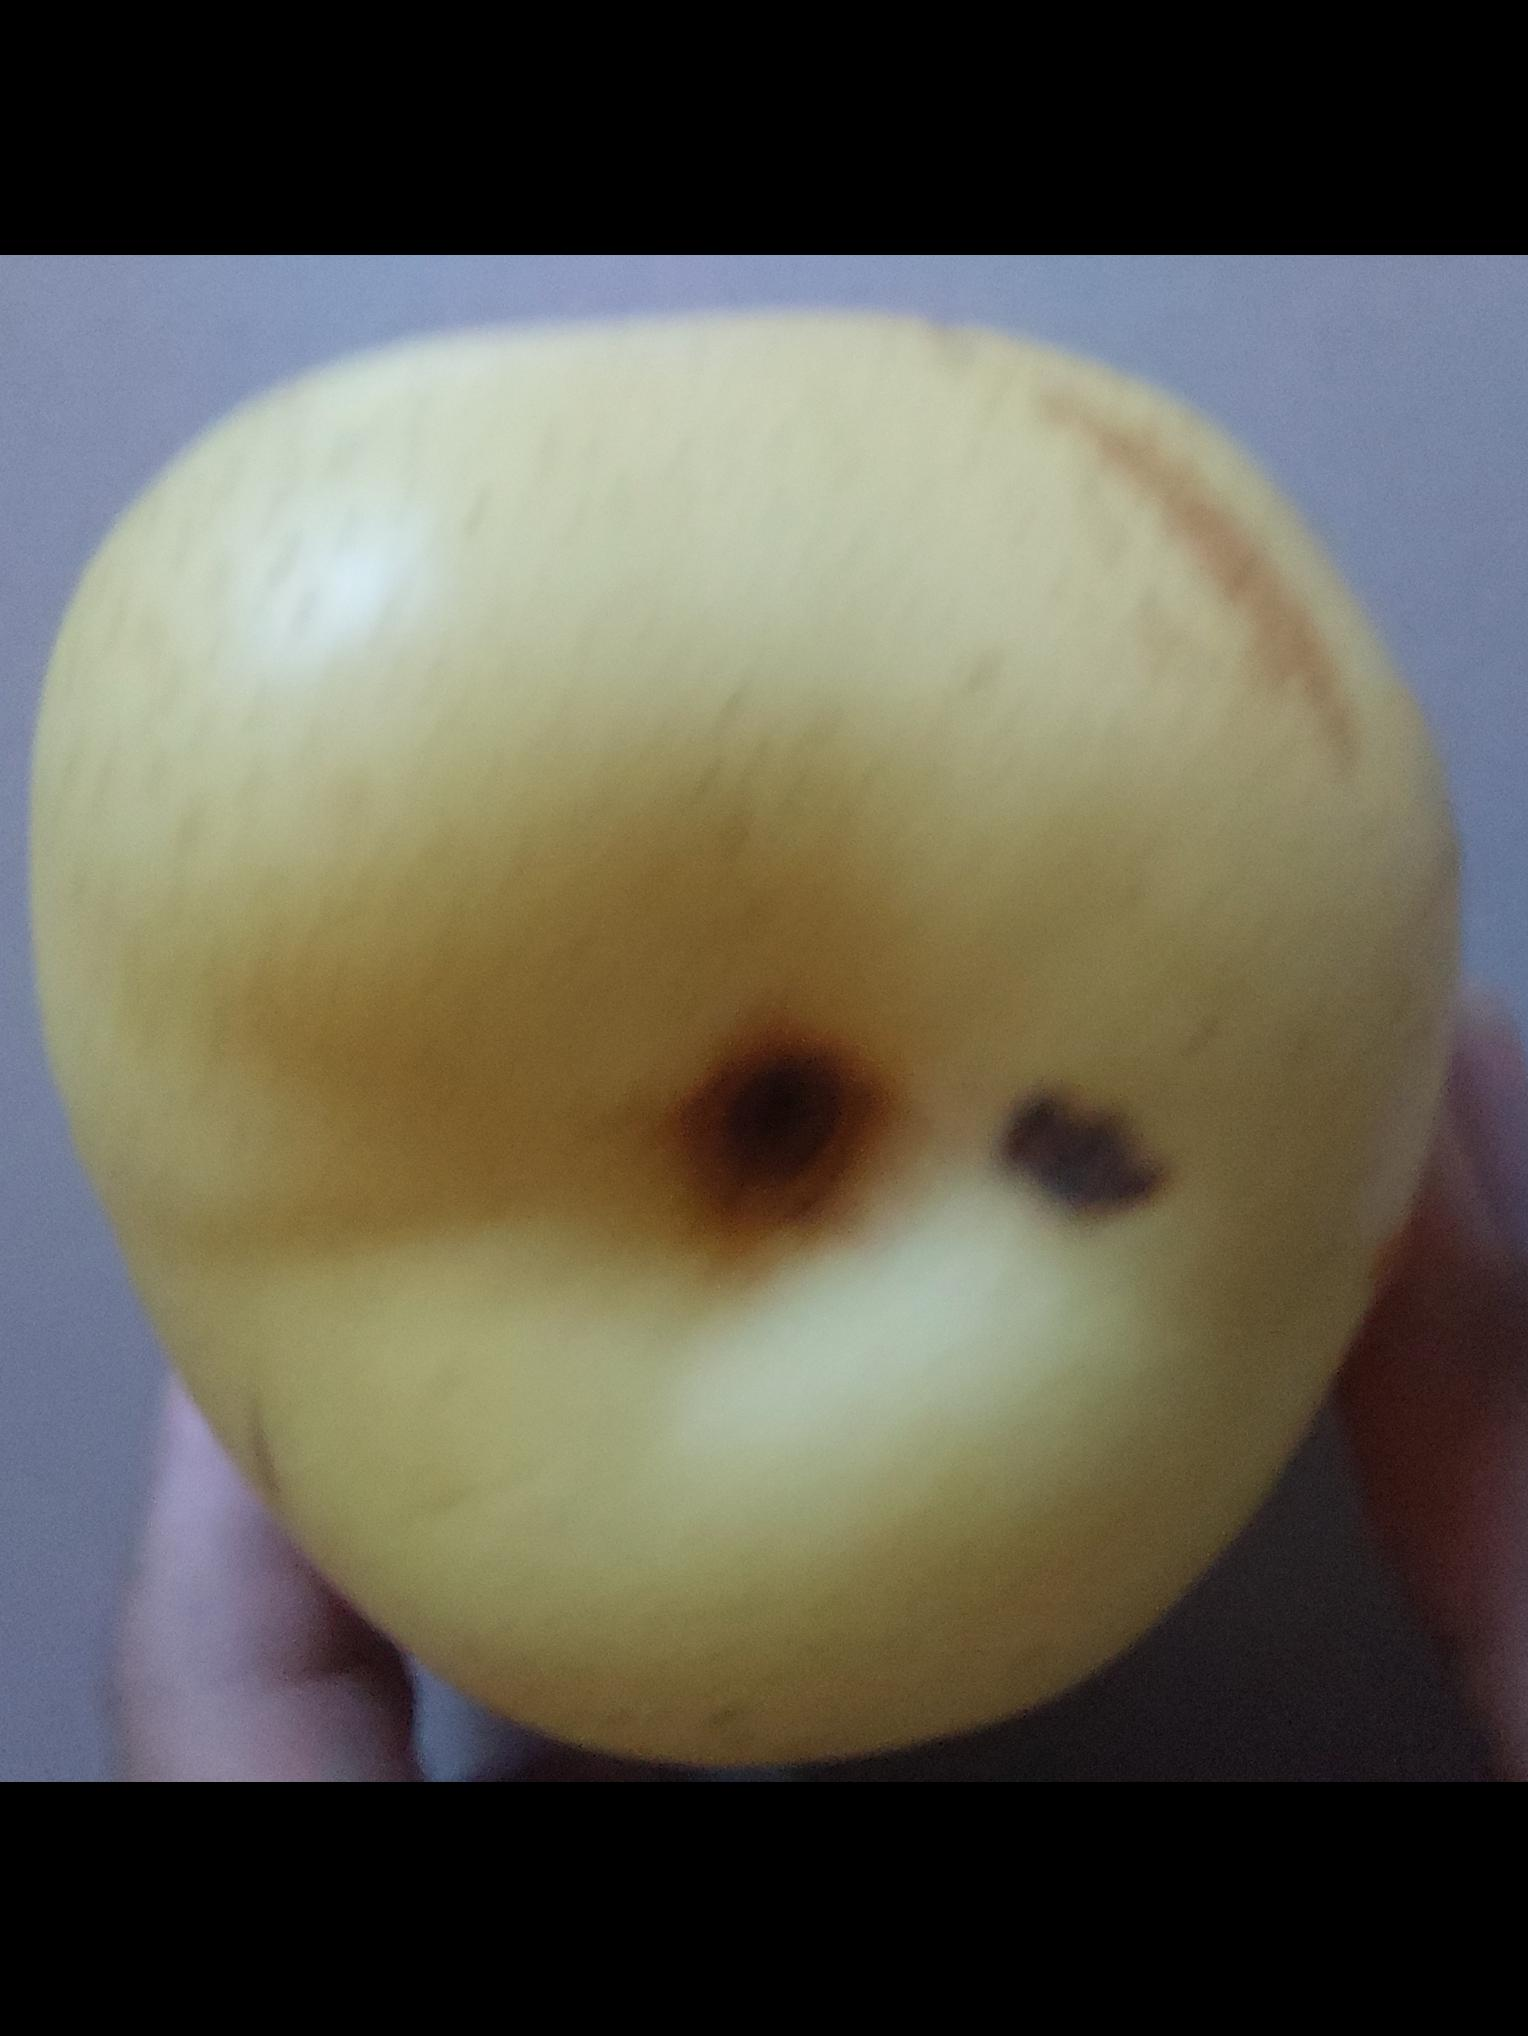Good Pear: (29, 294, 1464, 1762)
